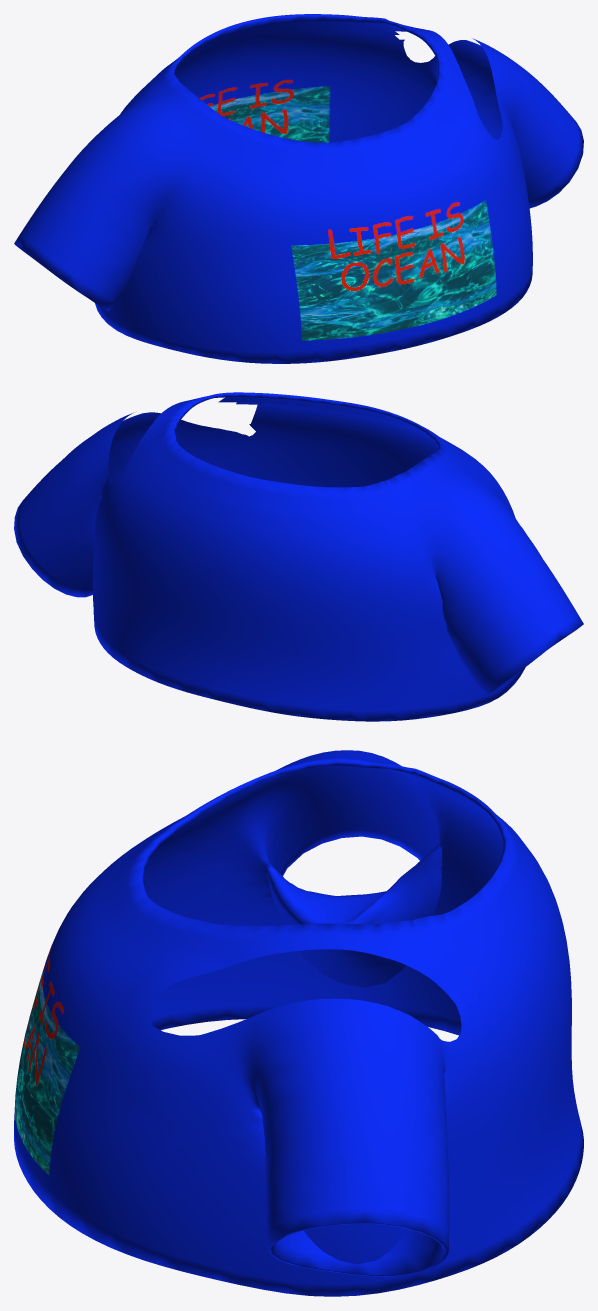
The model's file is minji_top.gltf.
3 renders of one model, top to bottom at view 1: azimuth 30°, elevation 25°; view 2: azimuth 150°, elevation 25°; view 3: azimuth 270°, elevation 25°, orthographic. The views are drawn at different scales.
Parts seen in each view (by area): view 1: minji_top; view 2: minji_top; view 3: minji_top.
Part boxes in pixels (x1=…): minji_top: x1=14, y1=14, x2=583, y2=363; minji_top: x1=14, y1=392, x2=583, y2=721; minji_top: x1=14, y1=750, x2=583, y2=1296.
Bounding box in the file's own units: 0.0481 × 0.0181 × 0.0297.
1 material, 1 textured.
